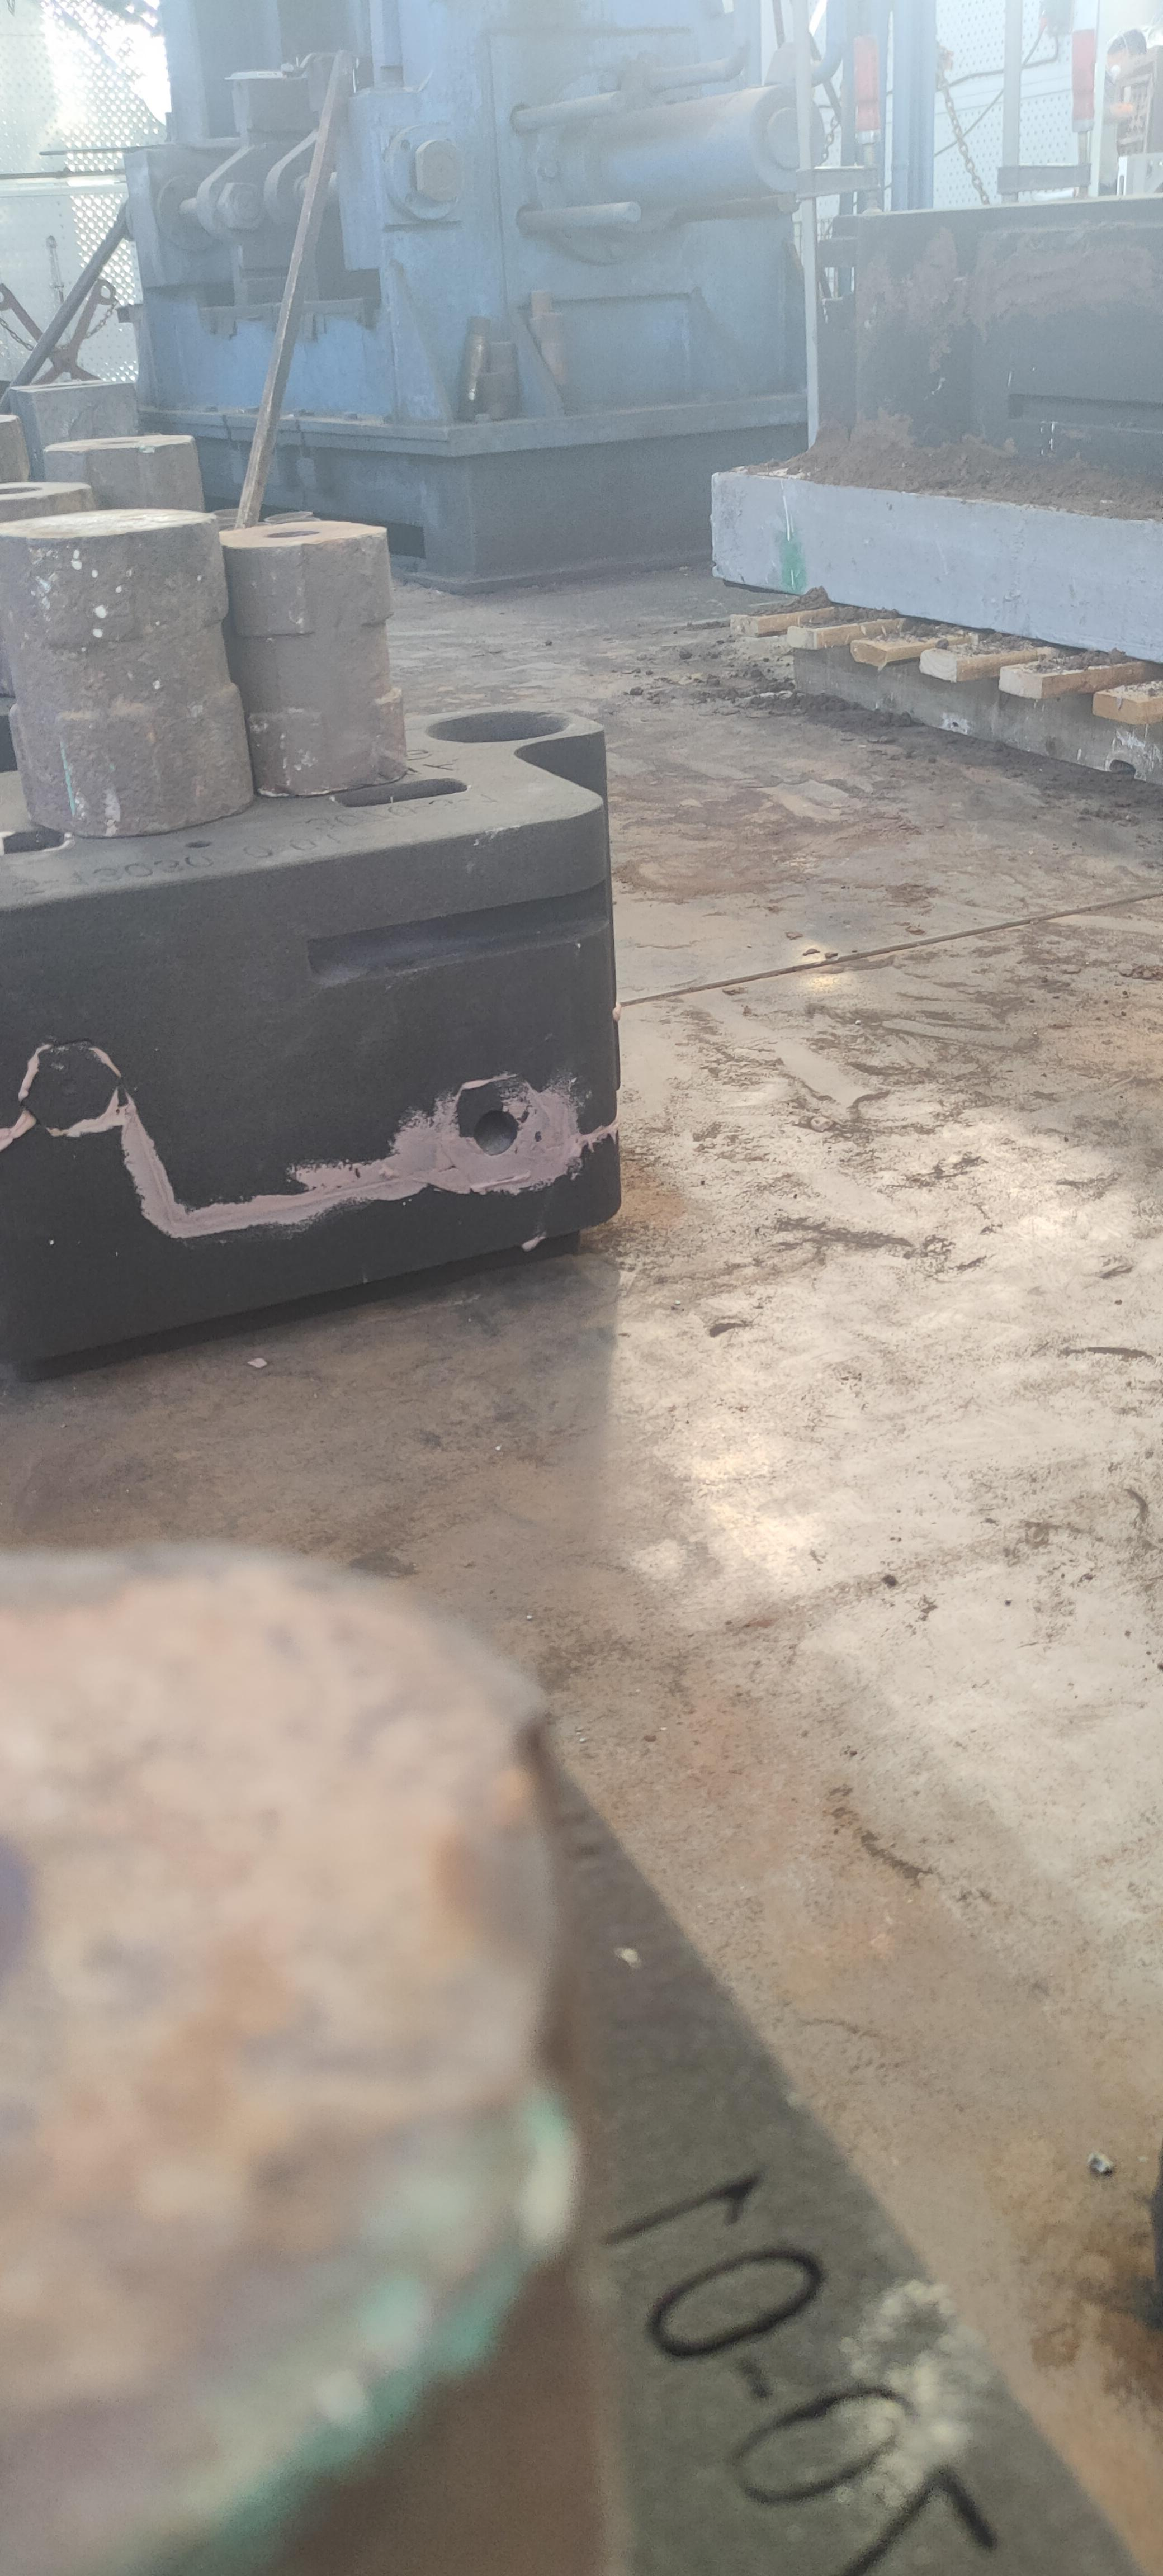pouring hole: (424, 708, 572, 743), (209, 503, 248, 517), (261, 511, 317, 521), (205, 522, 250, 534), (273, 521, 320, 529), (245, 522, 279, 531)
